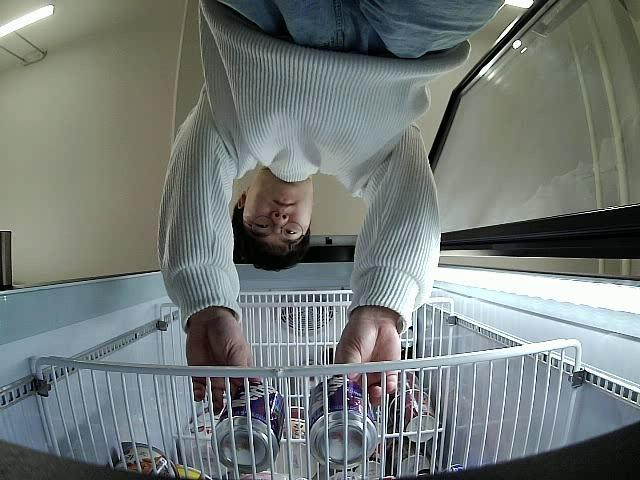14_welchsGrape: (210, 382, 284, 472), (308, 376, 378, 470)
